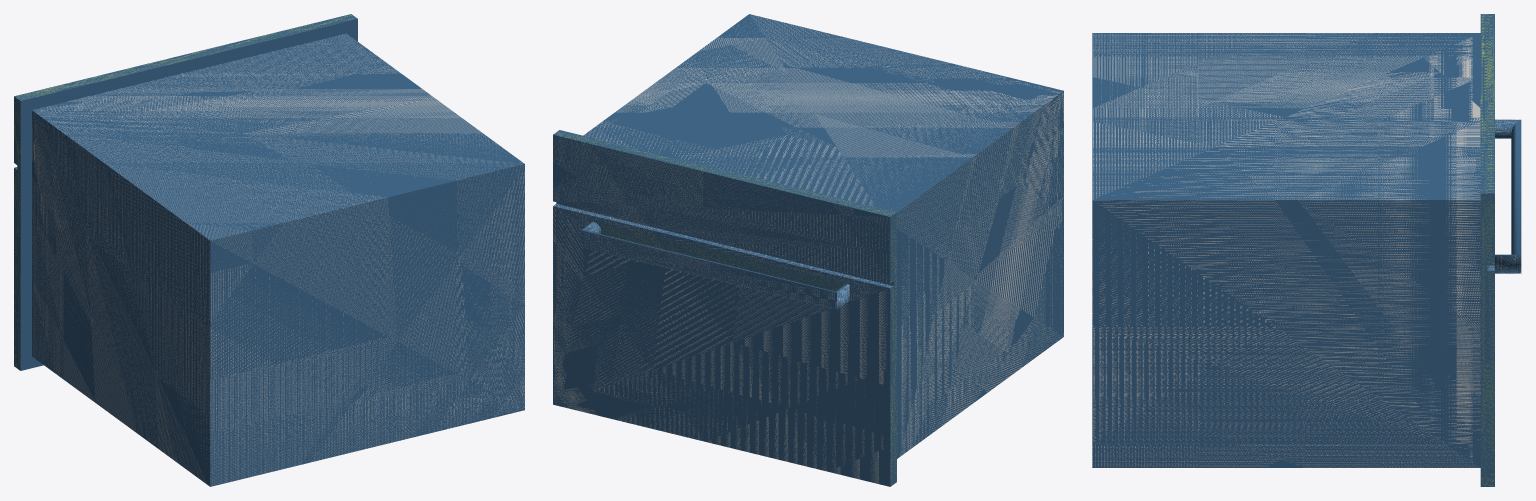
3 views of the same model, side by side, from view 1: azimuth 30°, elevation 25°; view 2: azimuth 150°, elevation 25°; view 3: azimuth 270°, elevation 25° (orthographic). The views are drawn at different scales.
Parts seen in each view (by area): view 1: mesh2_mesh2-geometry, mesh1_mesh1-geometry; view 2: mesh1_mesh1-geometry, mesh2_mesh2-geometry; view 3: mesh2_mesh2-geometry, mesh1_mesh1-geometry.
Boxes of the visible parts, box(x1,y1,x2,y2) form: mesh2_mesh2-geometry: box(32, 33, 524, 486); mesh1_mesh1-geometry: box(14, 14, 357, 370); mesh1_mesh1-geometry: box(553, 130, 896, 486); mesh2_mesh2-geometry: box(583, 14, 1063, 458); mesh2_mesh2-geometry: box(1092, 33, 1480, 467); mesh1_mesh1-geometry: box(1480, 14, 1521, 486).
Bounding box in the file's own units: 0.619 × 0.4733 × 0.6267.
